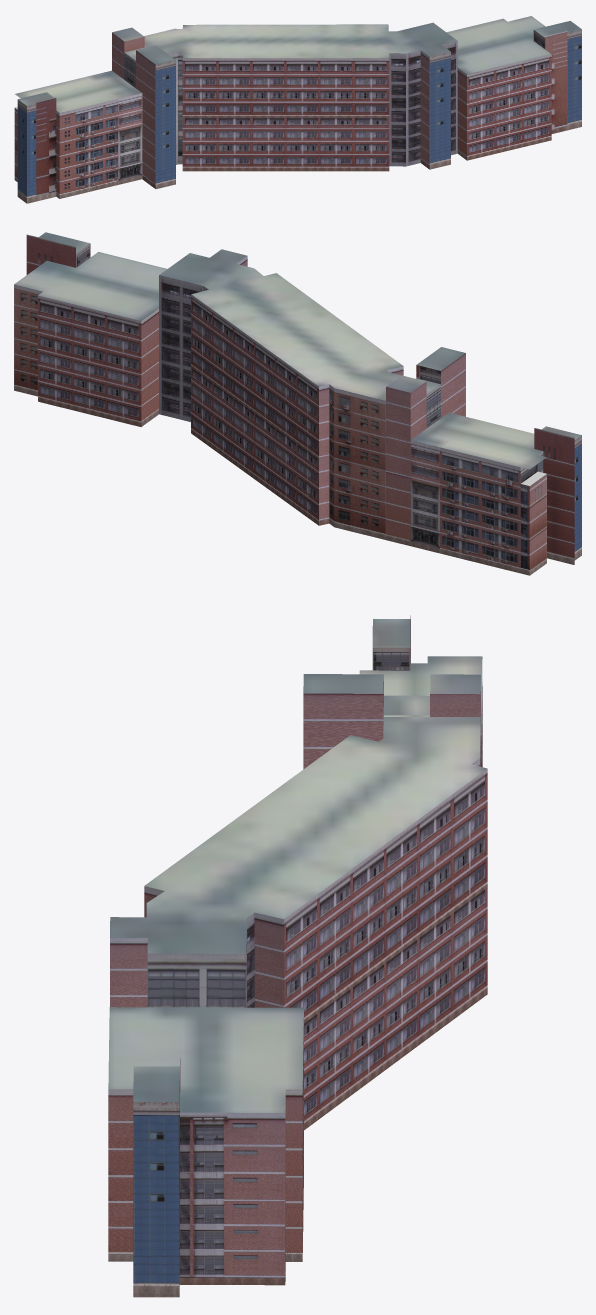
The model's file is jxl_g.gltf.
The picture shows the model from 3 angles, top to bottom: view 1: azimuth 30°, elevation 25°; view 2: azimuth 150°, elevation 25°; view 3: azimuth 270°, elevation 25°; orthographic projection. The views are drawn at different scales.
Parts seen in each view (by area): view 1: Model#15; view 2: Model#15; view 3: Model#15.
Boxes of the visible parts, left/top/right/bottom form: Model#15: left=14, top=16, right=581, bottom=203; Model#15: left=14, top=232, right=581, bottom=575; Model#15: left=108, top=615, right=487, bottom=1297.
Size of the model in its own units: 0.1373 by 0.0325 by 0.0449.
Materials: 7 (5 with a texture image).
